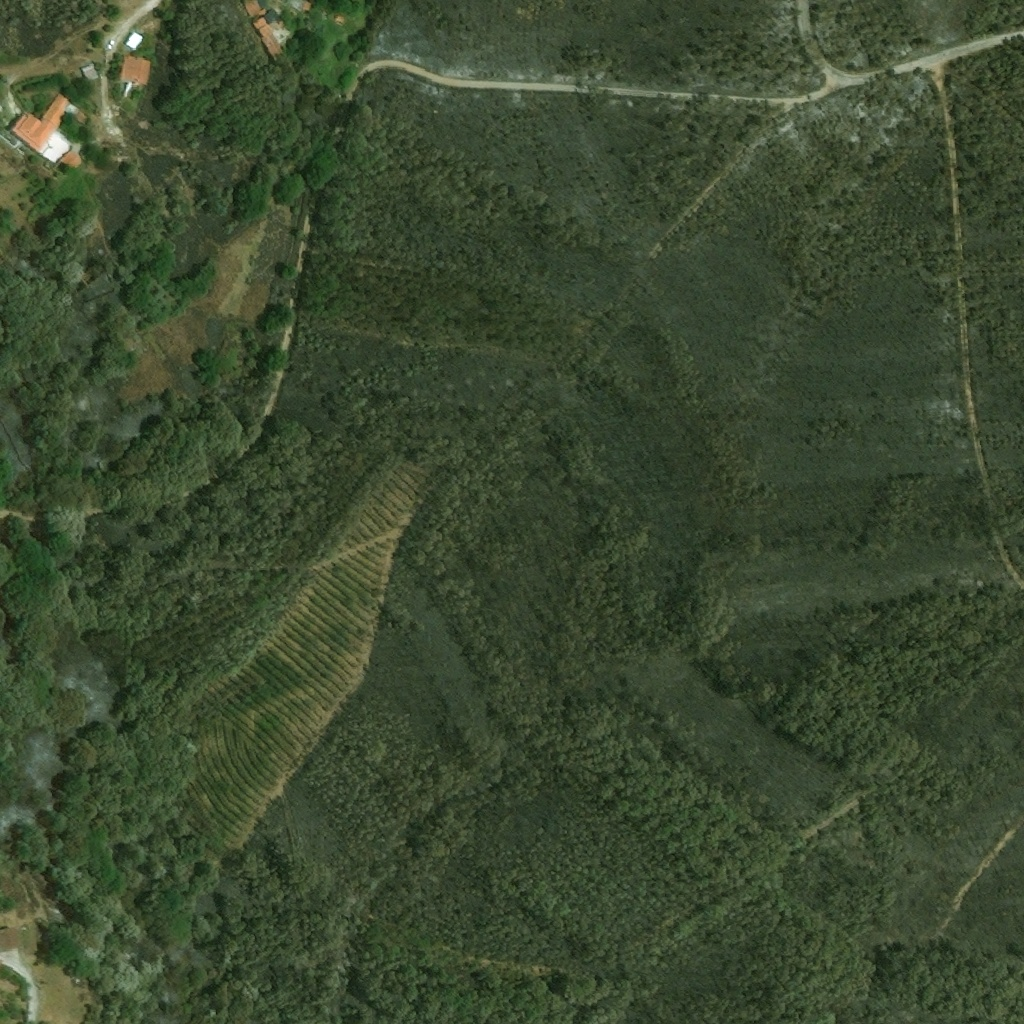0 no-damage: (10, 93, 73, 152), (252, 10, 286, 59), (121, 55, 151, 84), (279, 0, 311, 19), (0, 926, 19, 951), (60, 150, 82, 170), (81, 62, 100, 81), (126, 31, 144, 49), (242, 0, 261, 16), (332, 12, 347, 27), (256, 9, 267, 17)
4 un-classified: (320, 12, 329, 21)
